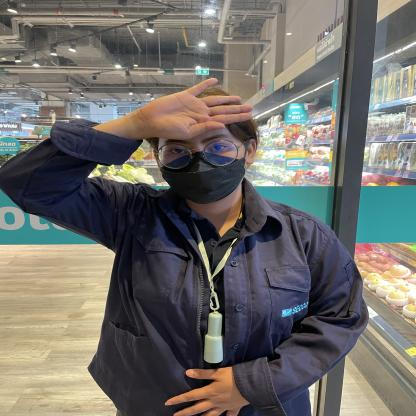Sick: (86, 64, 275, 159)
